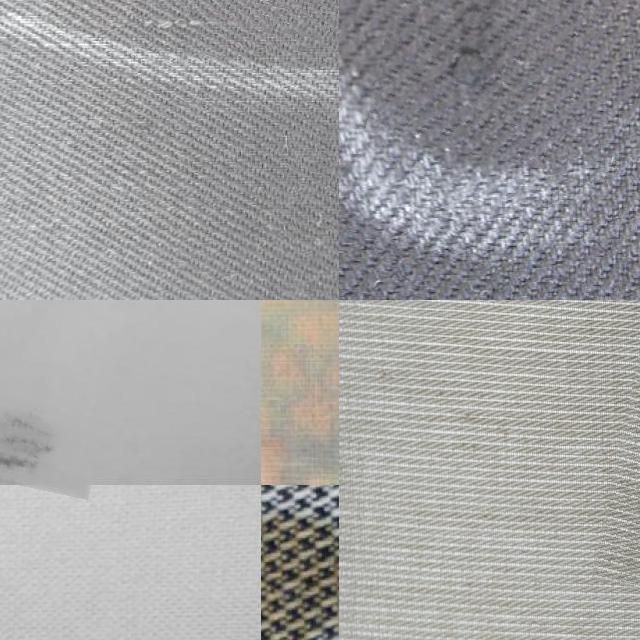Thread_other: (0, 300, 119, 491), (261, 300, 339, 484), (261, 484, 339, 640)
stains: (380, 0, 615, 163), (126, 0, 339, 74)
